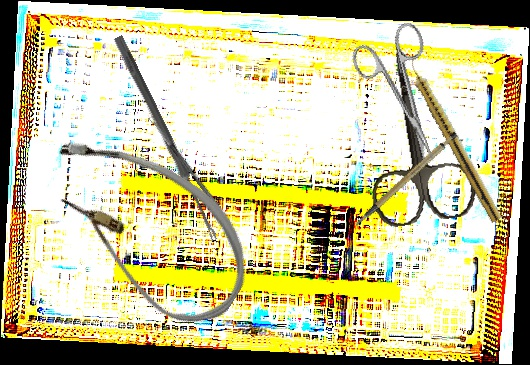Cannula: (15, 114, 275, 343)
Handpiece: (402, 54, 506, 224)
Iris Scissors: (346, 28, 480, 230), (346, 19, 462, 176)
Scalpel Handle: (342, 129, 468, 227)
Surgical Spoon: (112, 34, 221, 243), (148, 115, 220, 208)
